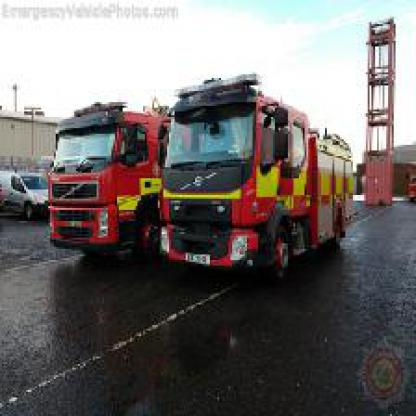emergency: (44, 78, 384, 293)
